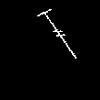treble_crochet: (38, 9, 75, 57)
